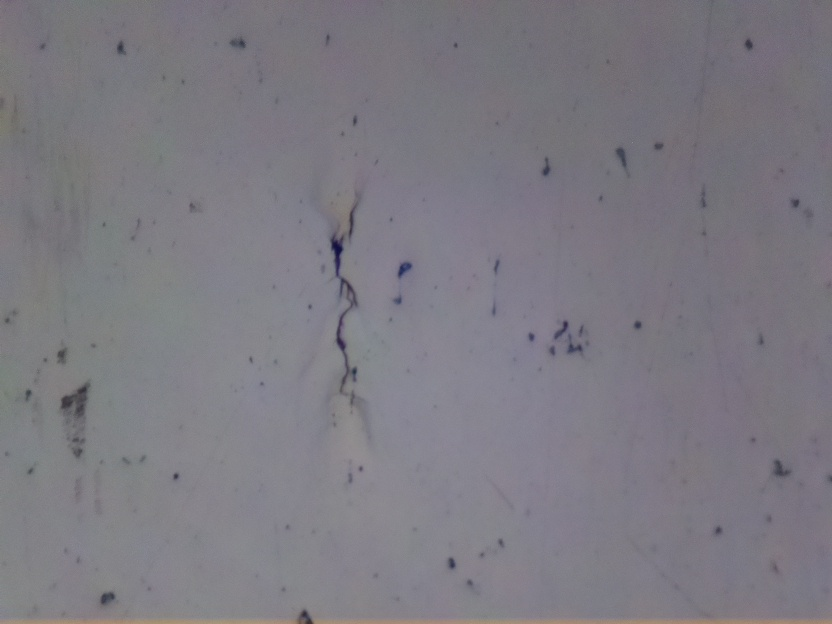crack: (321, 194, 360, 400)
